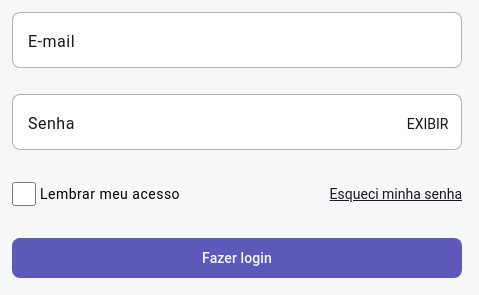
Test: <LoginForm/> › should render error message of pattern in field email
Type "teste" into the field labelled "E-mail" at (237, 40), box [12,12,462,68]
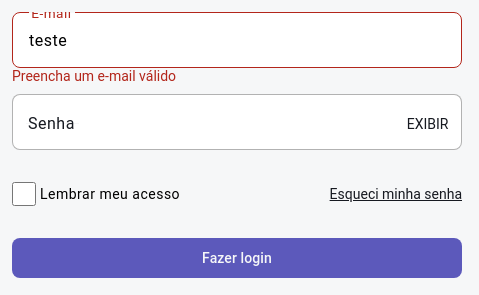
Expected: the text "Preencha um e-mail válido" is shown, [12,68,176,84]
